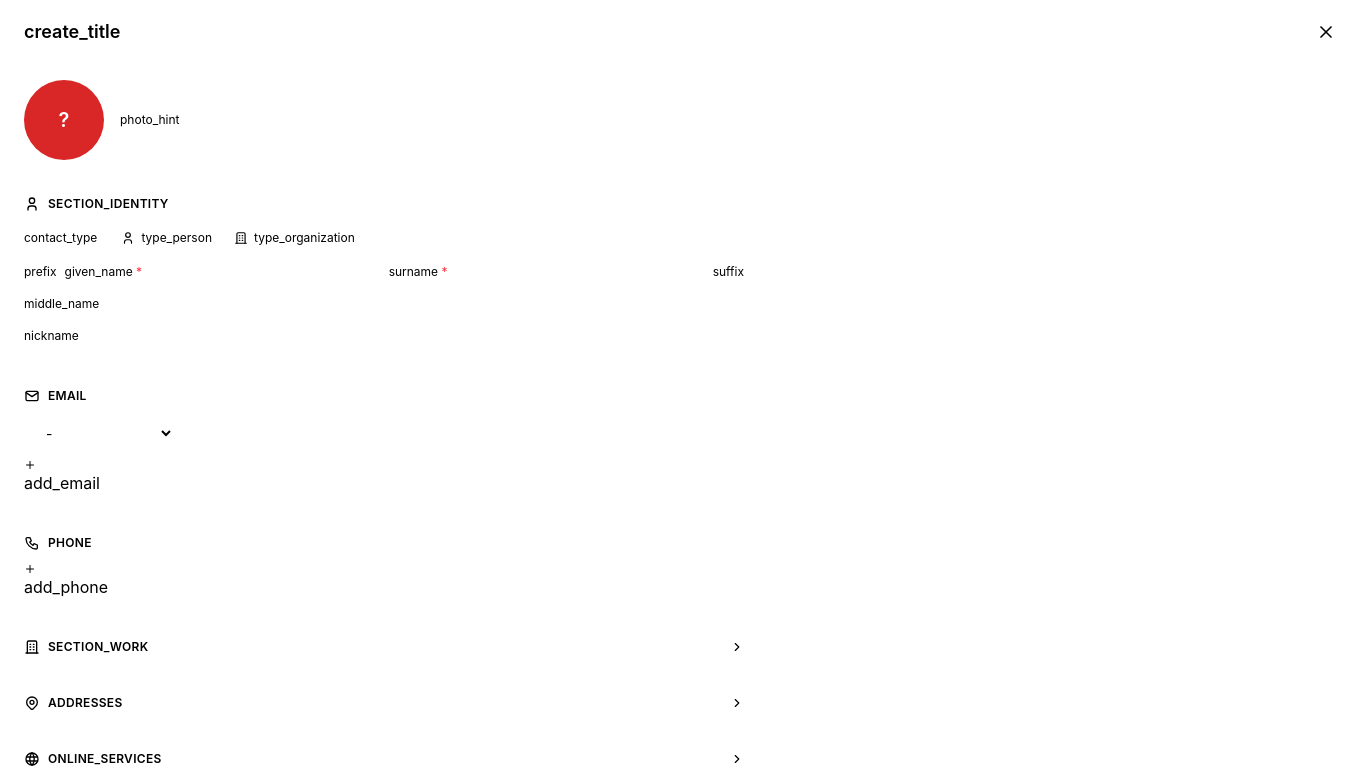
Test case: ContactForm › still requires a name in organization mode
Click the radio button "type_organization" at (294, 238), box [224, 226, 365, 250]
(page scrolled)
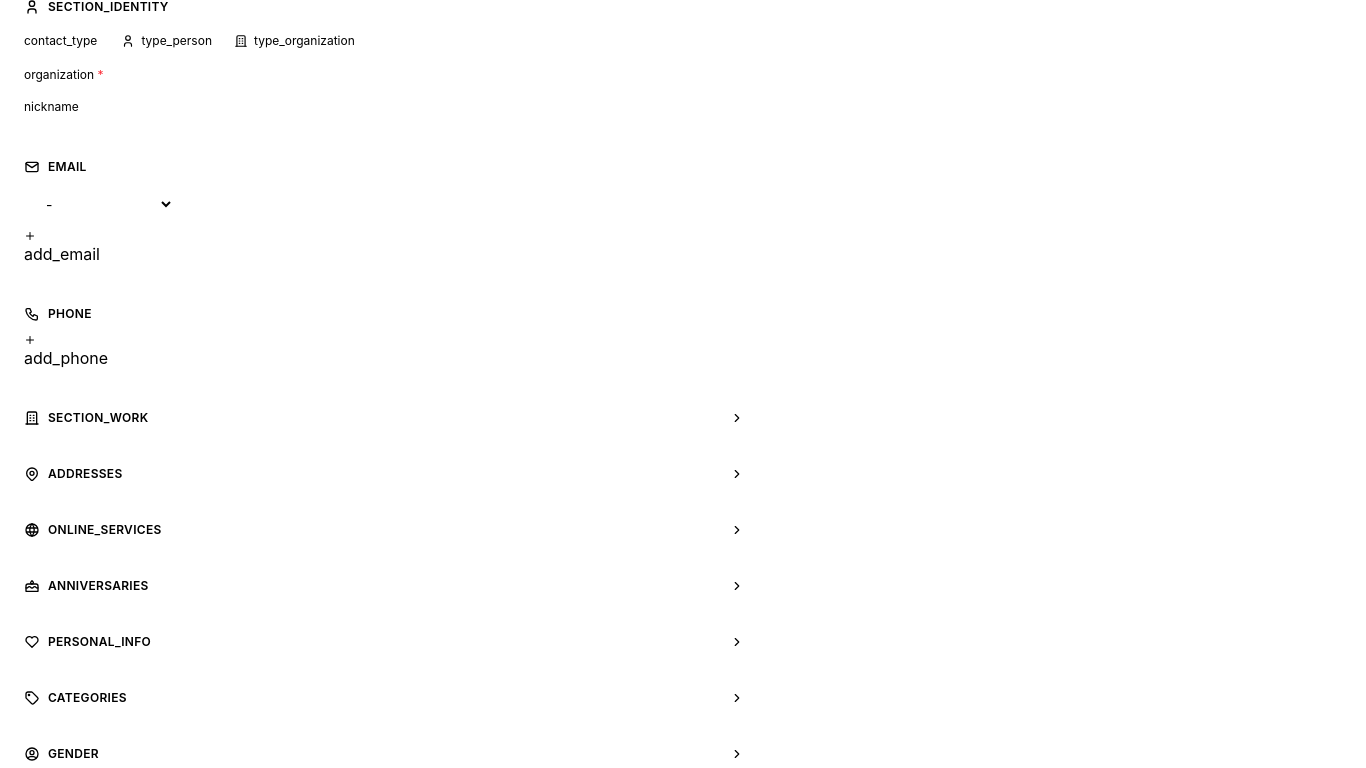
Submit the text "save"
(page scrolled)
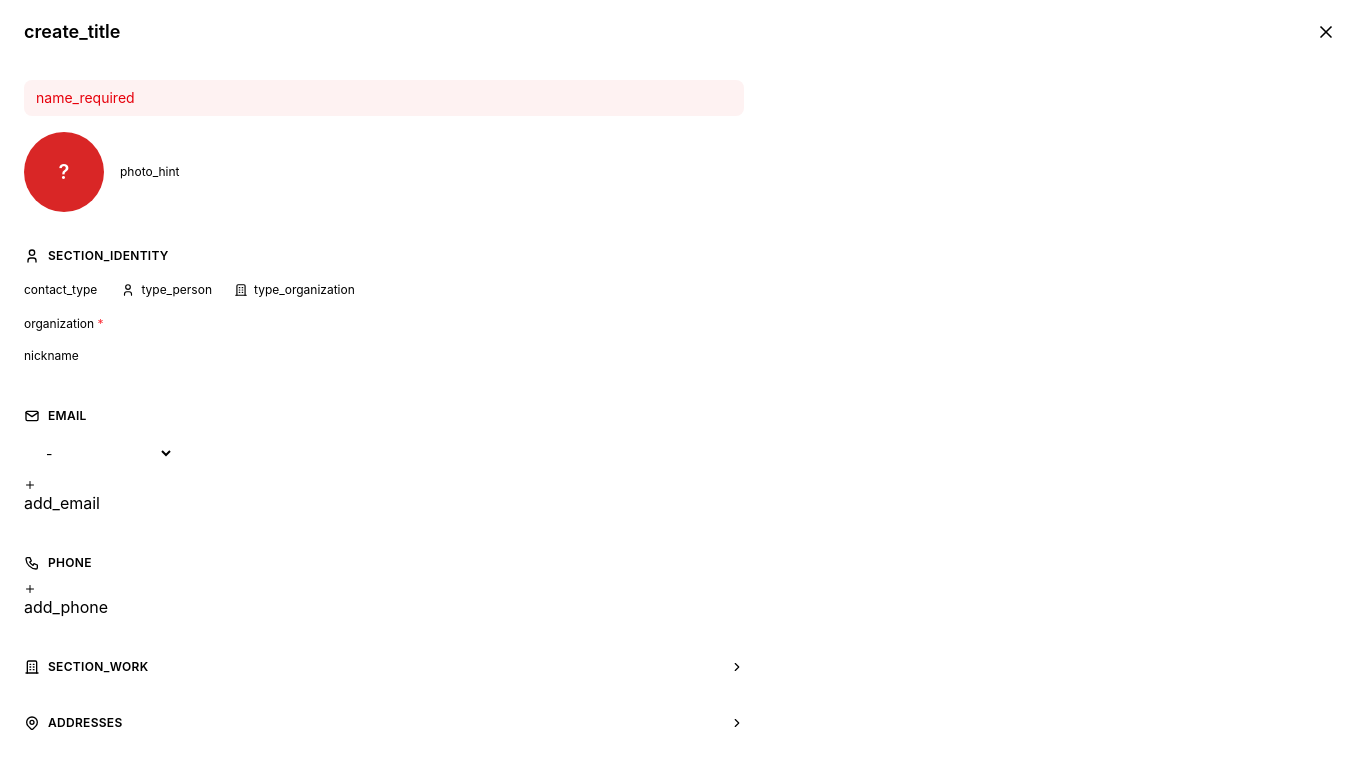
Expected: the text "name_required" is shown, [24, 80, 744, 116]
